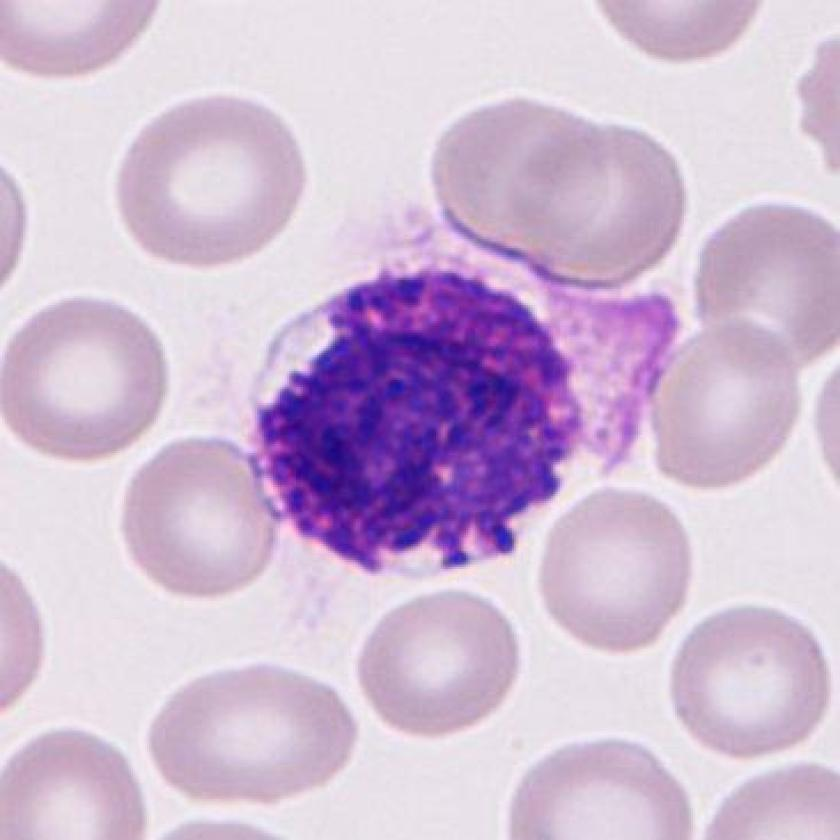basophil: (234, 255, 685, 586)
